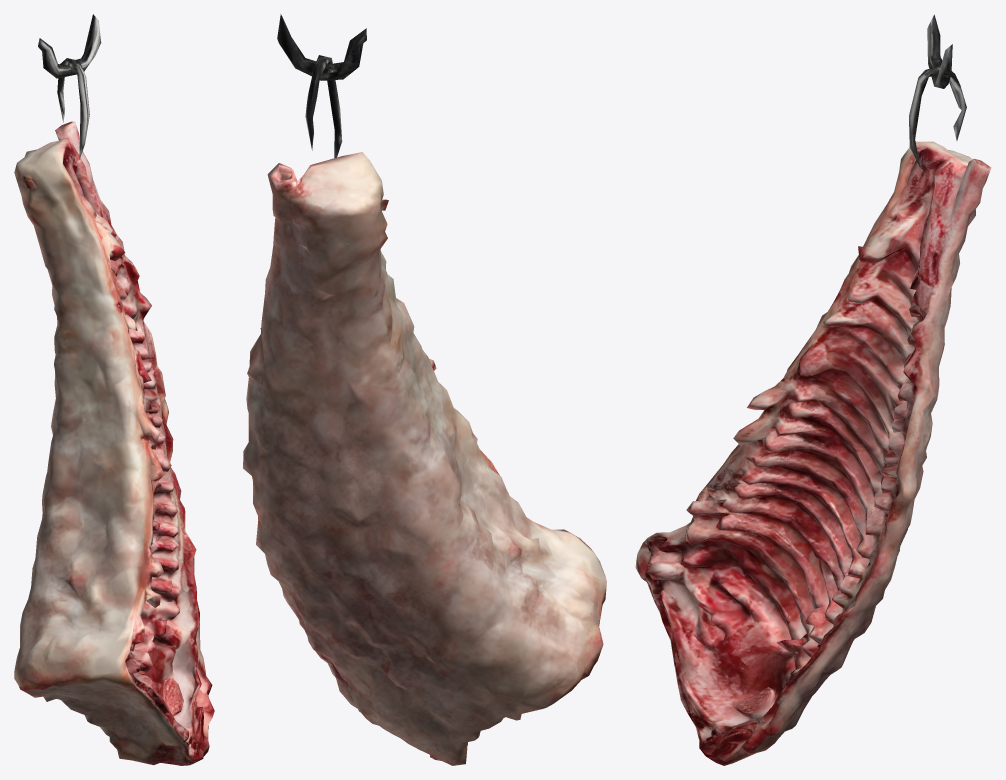
Rendered from hanging_meat.fbx.
3 renders of one model, left to right at view 1: azimuth 30°, elevation 25°; view 2: azimuth 150°, elevation 25°; view 3: azimuth 270°, elevation 25°, orthographic. The views are drawn at different scales.
Visible parts, largest first — view 1: hanging_meat; view 2: hanging_meat; view 3: hanging_meat.
Boxes of the visible parts, x1,y1,x2,y2 form: hanging_meat: (14,14,214,765); hanging_meat: (243,14,606,765); hanging_meat: (635,14,991,765).
Size of the model in its own units: 0.5376 by 1.6 by 0.7132.
1 material, 1 textured.
